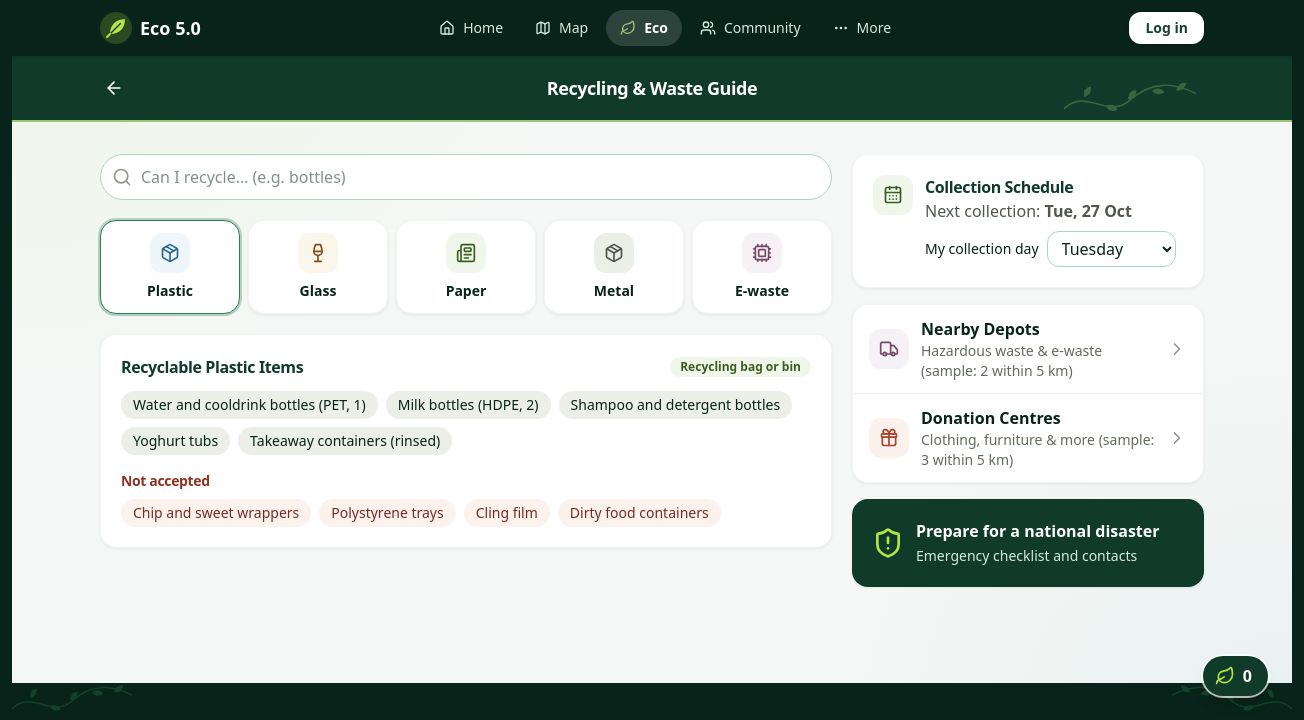
Test: Recycling & Waste Guide (/eco/recycling) › remembers your collection day
Select "Friday" in the dropdown labelled "My collection day" at (1111, 249), box [1046,231,1176,267]
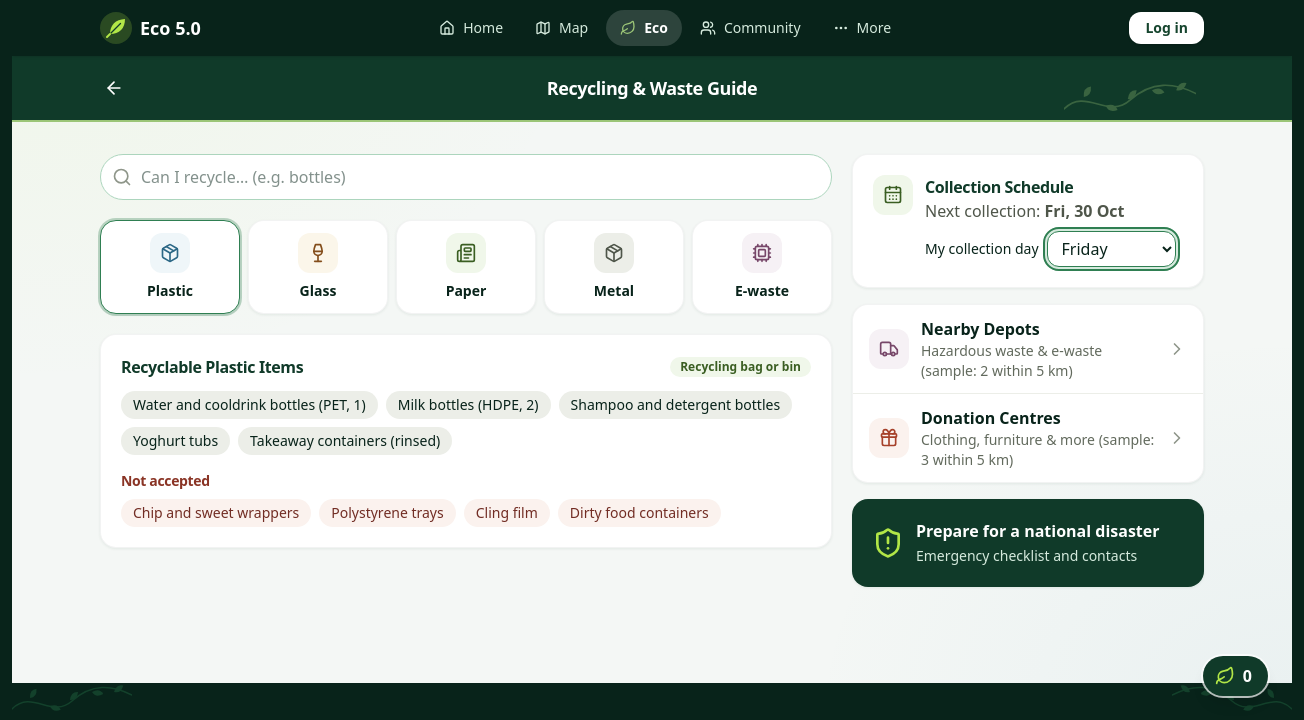
Now the text "Next collection: Fri, 30 Oct" is shown, box [925,200,1124,222]
